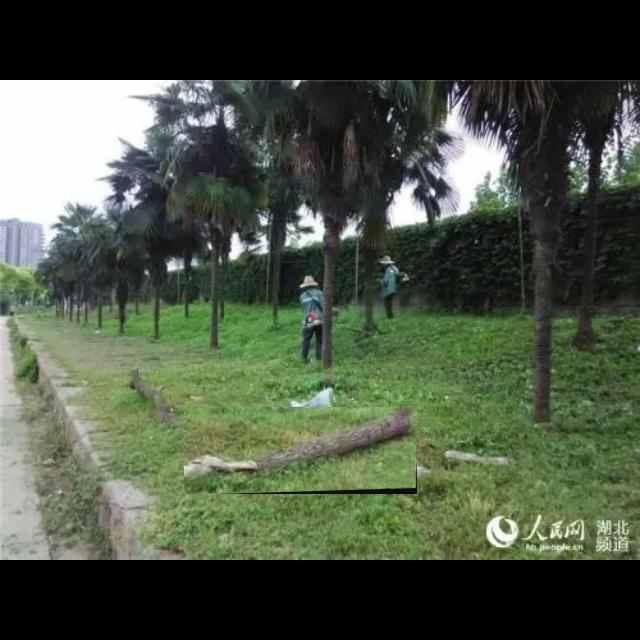Fallen Tree: (184, 407, 418, 495)
